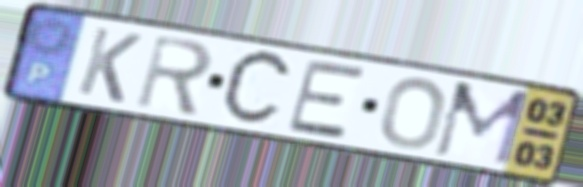C: (216, 47, 297, 129)
E: (284, 58, 368, 142)
K: (73, 24, 145, 106)
M: (429, 79, 534, 169)
O: (378, 75, 450, 151)
R: (133, 31, 216, 118)
